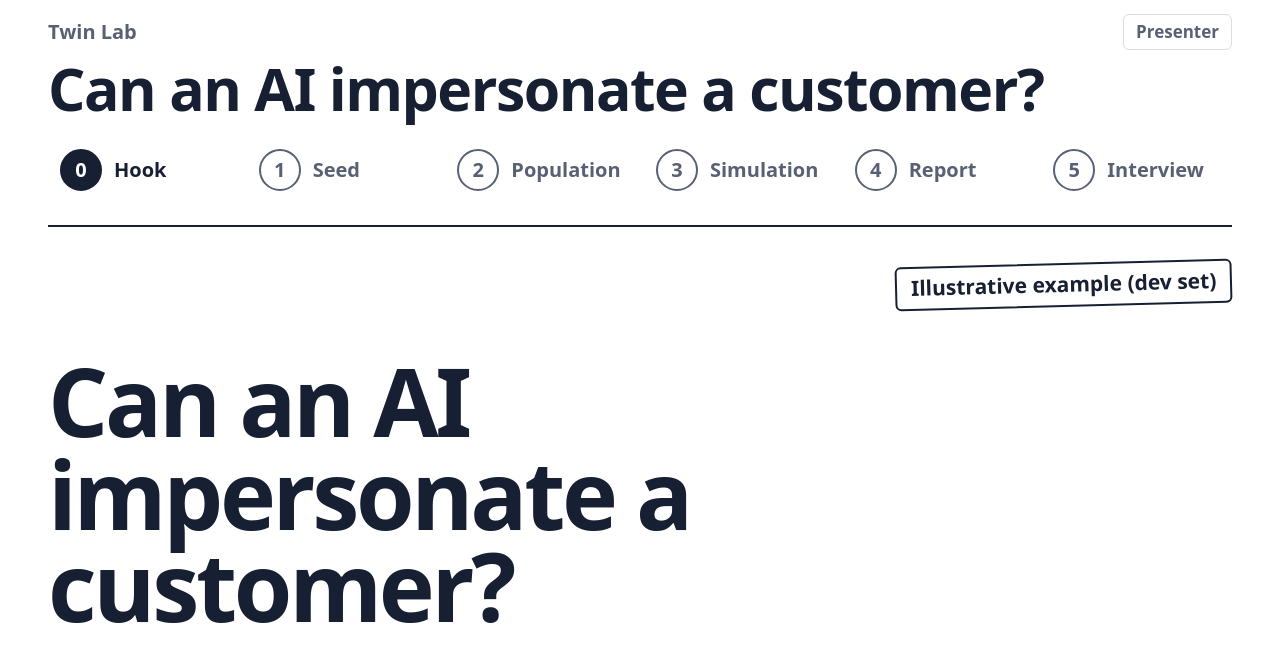
Test case: Step 1 Seed › builds a population with the chosen settings and shows the summary
This screenshot has width=1280, height=660.
Click the button "1 Seed" at {"x": 342, "y": 170}, box top-left (247, 139), bottom-right (437, 201)
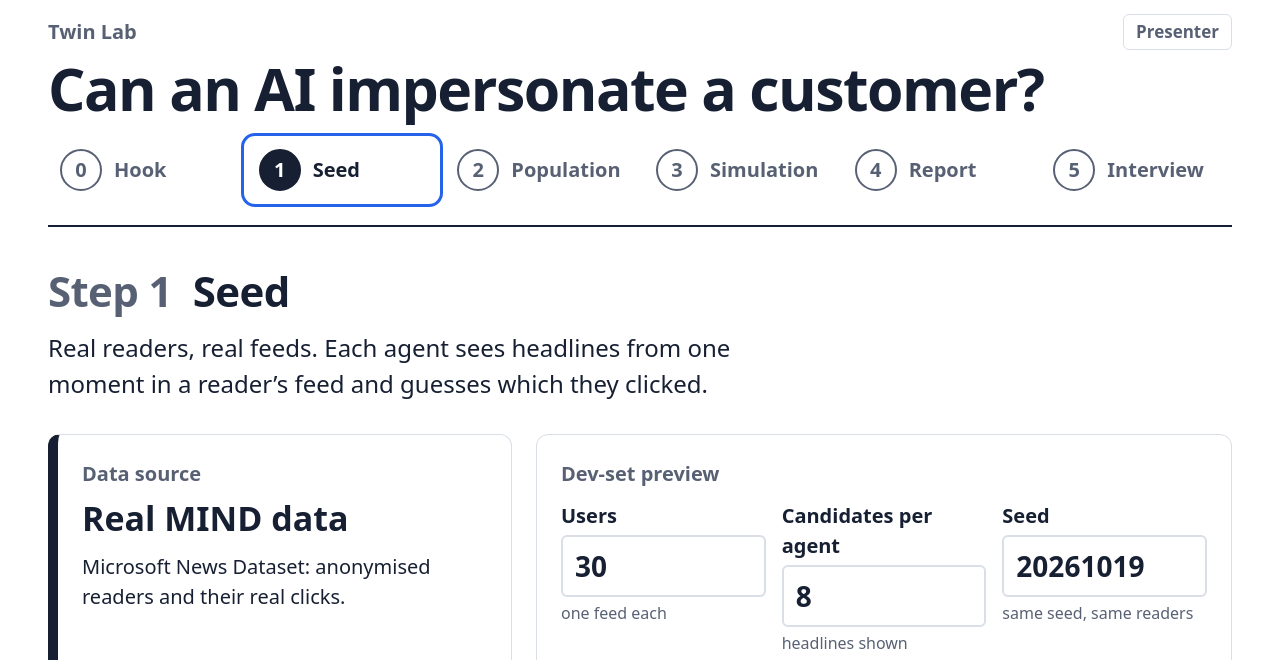
Check: the heading "Step 1 Seed" is shown, box top-left (48, 262), bottom-right (290, 319)
Replace the text in the number field labelled "Users one feed each" with "12" at {"x": 663, "y": 566}, box top-left (561, 535), bottom-right (766, 597)
(page scrolled)
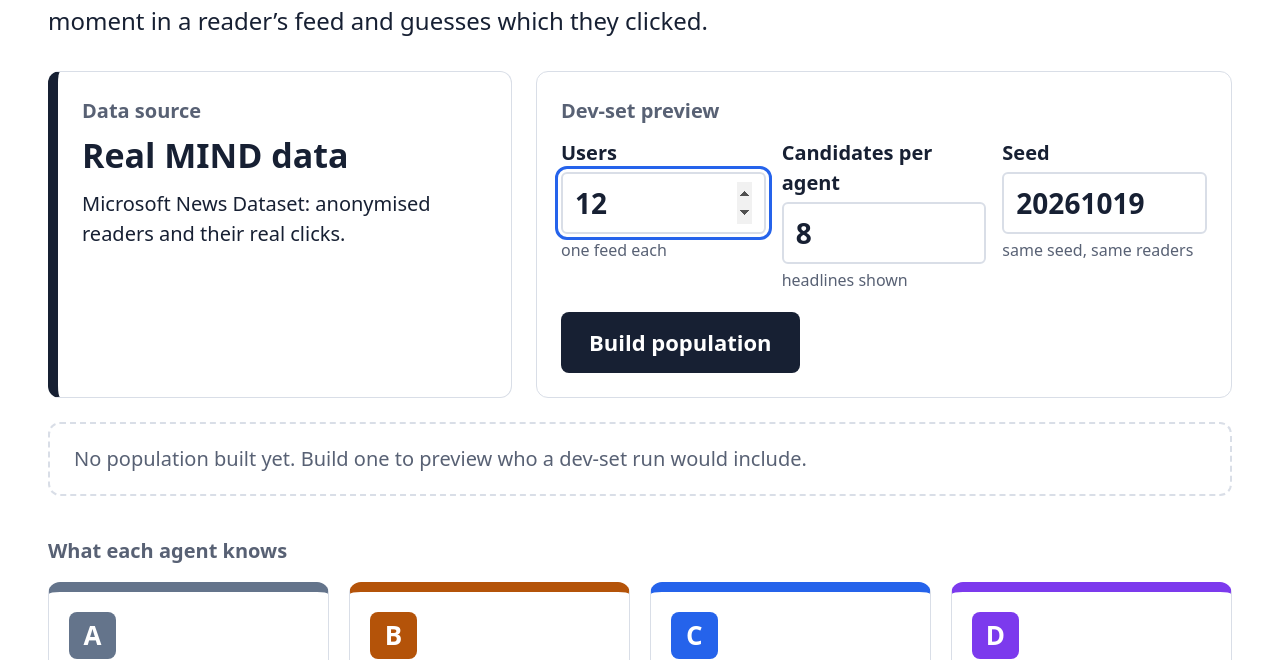
Click the button "Build population" at {"x": 680, "y": 342}, box top-left (561, 312), bottom-right (800, 373)
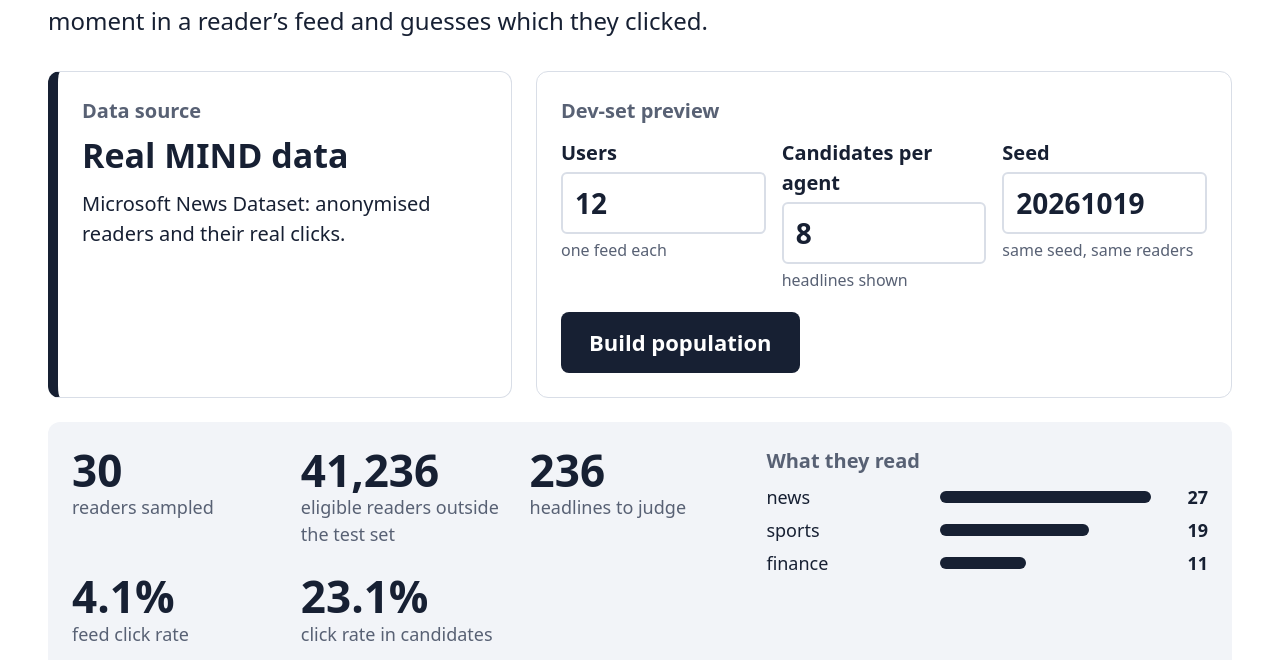
Check: the text "41,236" is shown, box top-left (301, 440), bottom-right (439, 500)
Check: the text "eligible readers outside the test set" is shown, box top-left (301, 494), bottom-right (506, 548)
Check: the text "4.1%" is shown, box top-left (72, 566), bottom-right (174, 626)
